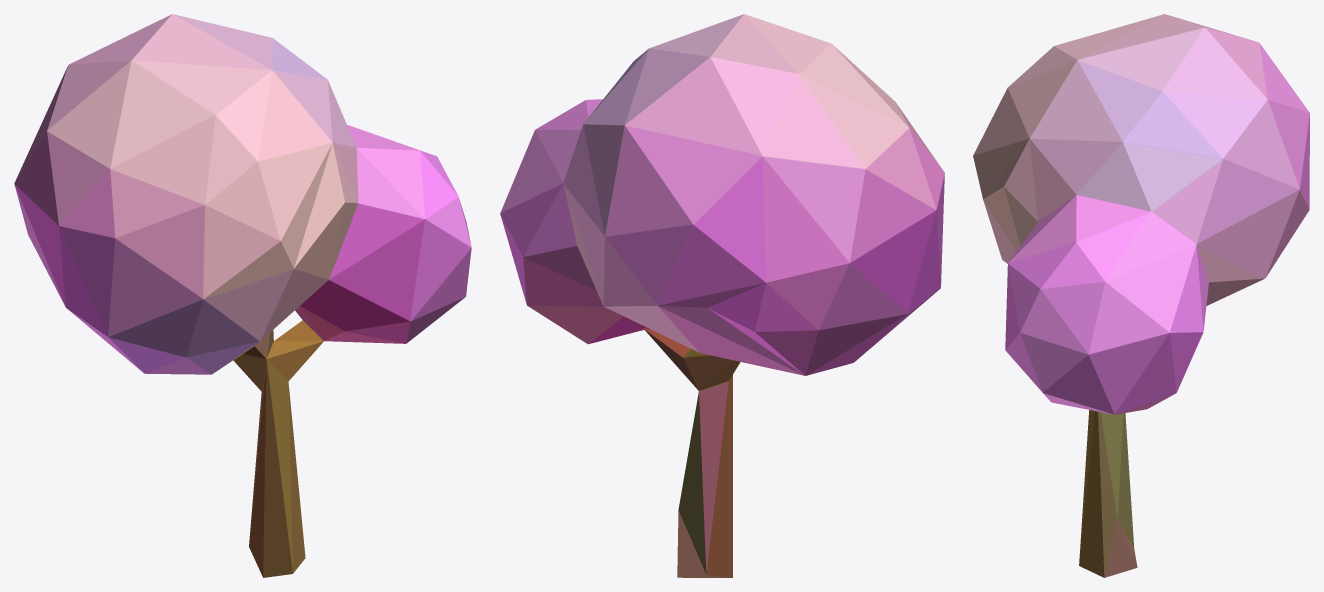
Rendered from tree.obj.
The picture shows the model from 3 angles, left to right: view 1: azimuth 30°, elevation 25°; view 2: azimuth 150°, elevation 25°; view 3: azimuth 270°, elevation 25°; orthographic projection. The views are drawn at different scales.
Visible parts, largest first — view 1: Mesh_0; view 2: Mesh_0; view 3: Mesh_0.
Boxes of the visible parts, x1,y1,x2,y2 form: Mesh_0: (14,14,471,577); Mesh_0: (500,14,944,577); Mesh_0: (973,14,1309,577).
Bounding box in the file's own units: 1.41 × 1.81 × 1.07.
